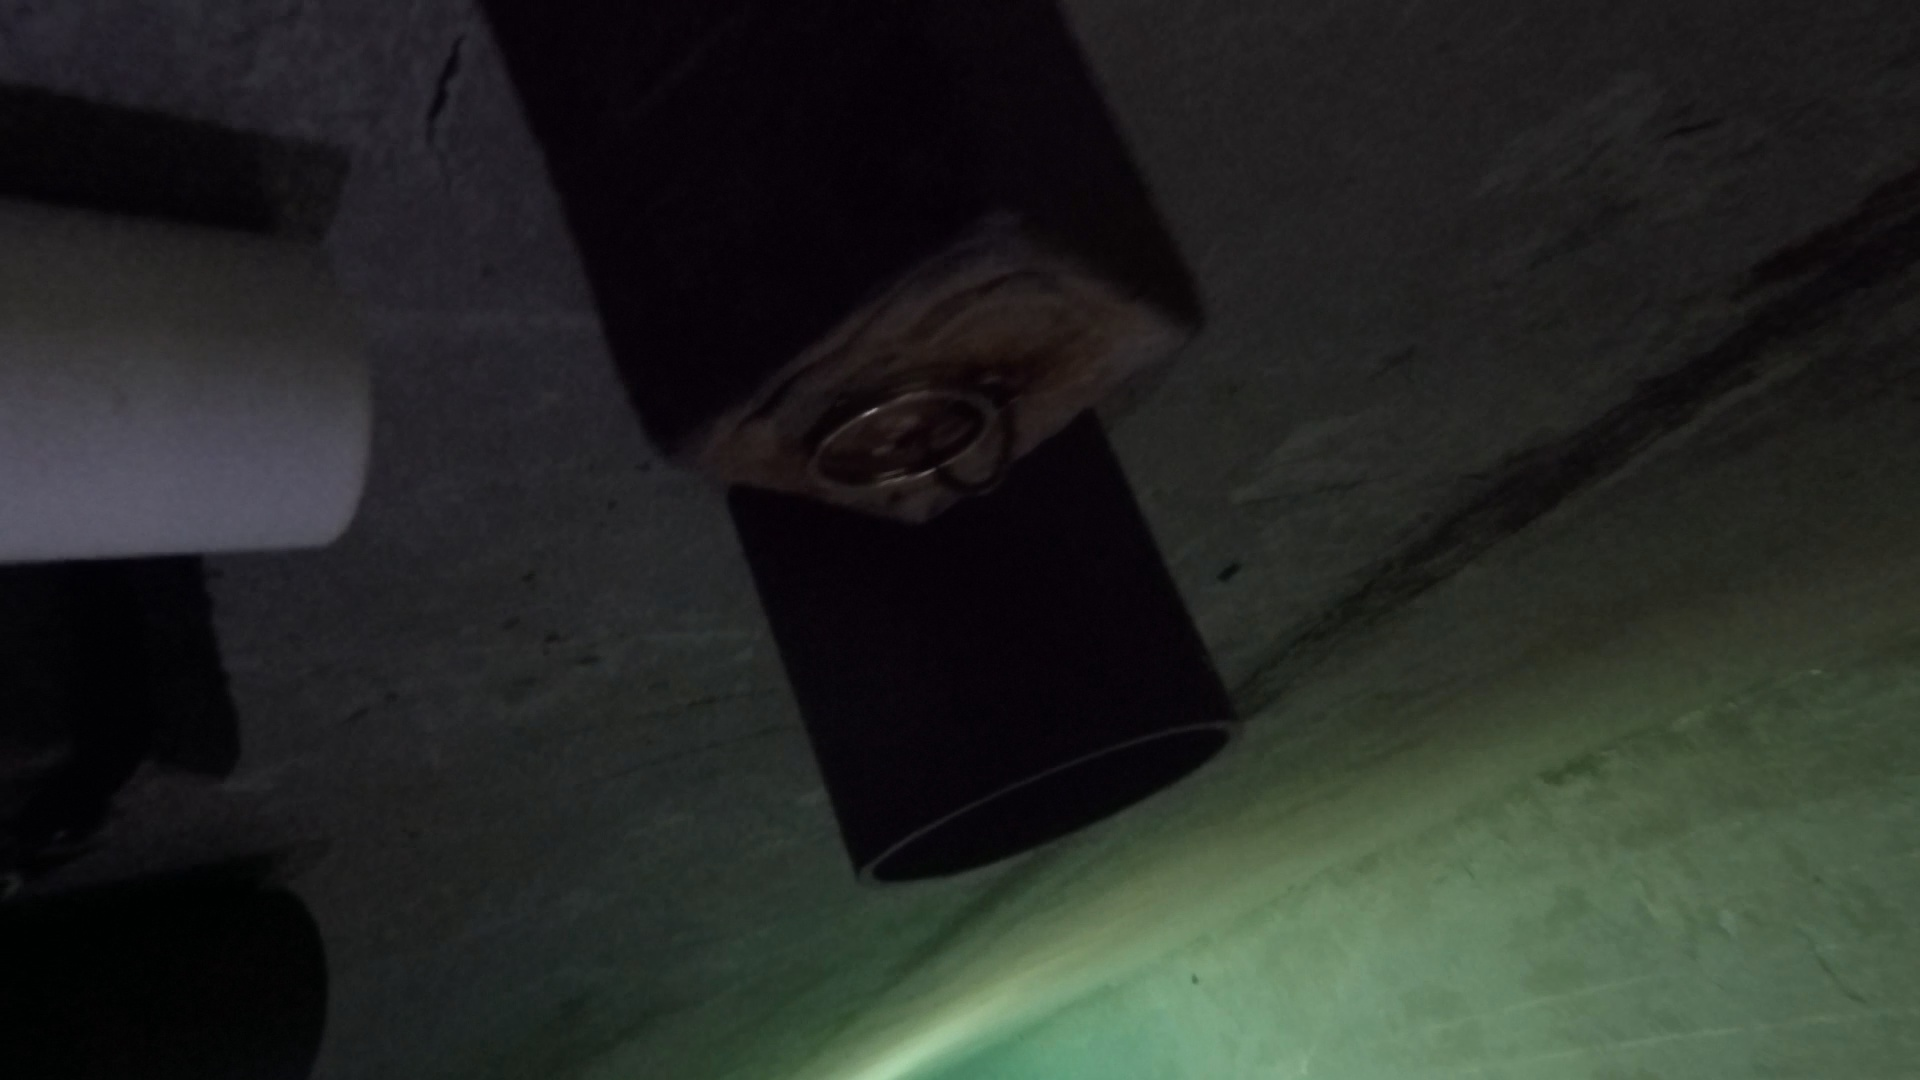led_block: (473, 1, 1207, 524), (1, 560, 240, 865)
pipe: (725, 411, 1244, 891), (1, 190, 372, 563), (1, 877, 331, 1080)
